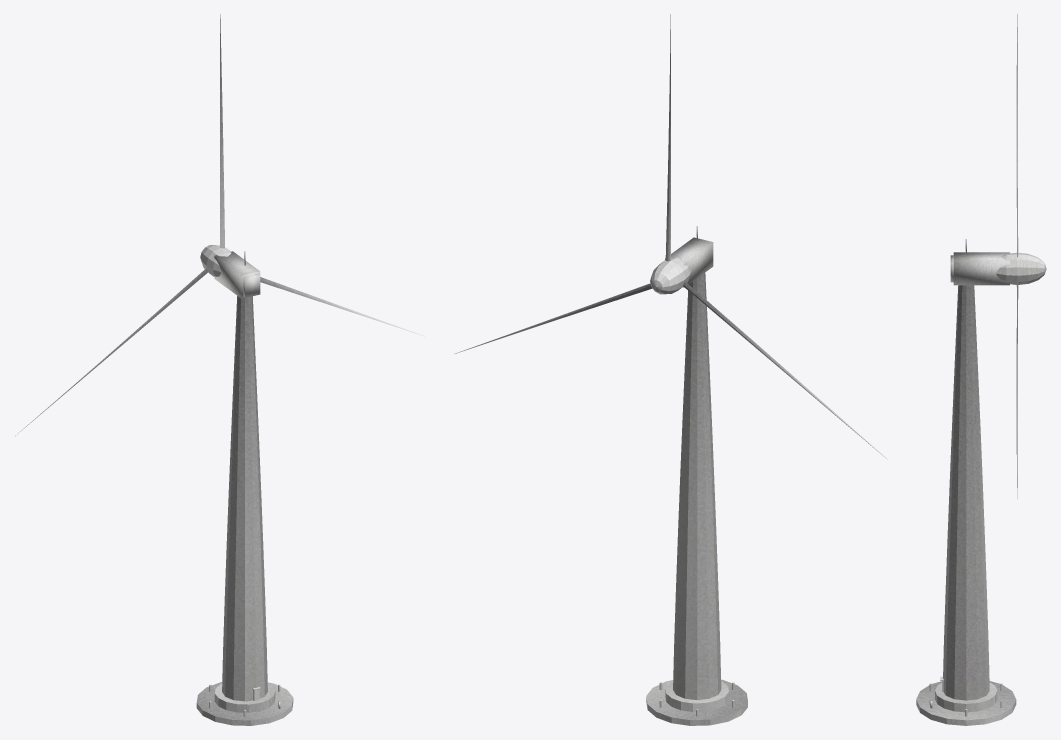
Rendered from aerogenerador.fbx.
3 renders of one model, left to right at view 1: azimuth 30°, elevation 25°; view 2: azimuth 150°, elevation 25°; view 3: azimuth 270°, elevation 25°, orthographic. The views are drawn at different scales.
Visible parts, largest first — view 1: Aspa_3; view 2: Aspa_3; view 3: Aspa_3.
Boxes of the visible parts, x1,y1,x2,y2 form: Aspa_3: (15, 14, 425, 725); Aspa_3: (455, 14, 887, 725); Aspa_3: (916, 14, 1046, 725).
Bounding box in the file's own units: 7797 × 12198 × 2088.
1 material, 1 textured.
